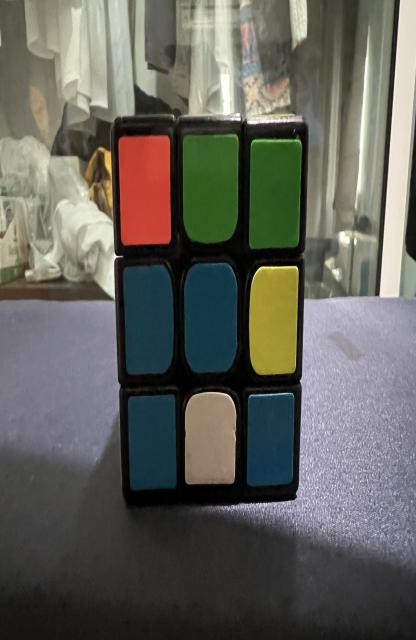Blue: (184, 263, 237, 373), (123, 265, 174, 375), (128, 395, 176, 490), (247, 393, 294, 487)
Green: (183, 133, 239, 243), (249, 138, 301, 248)
Orange: (119, 135, 171, 245)
White: (185, 392, 236, 485)
Yellow: (249, 265, 299, 375)
